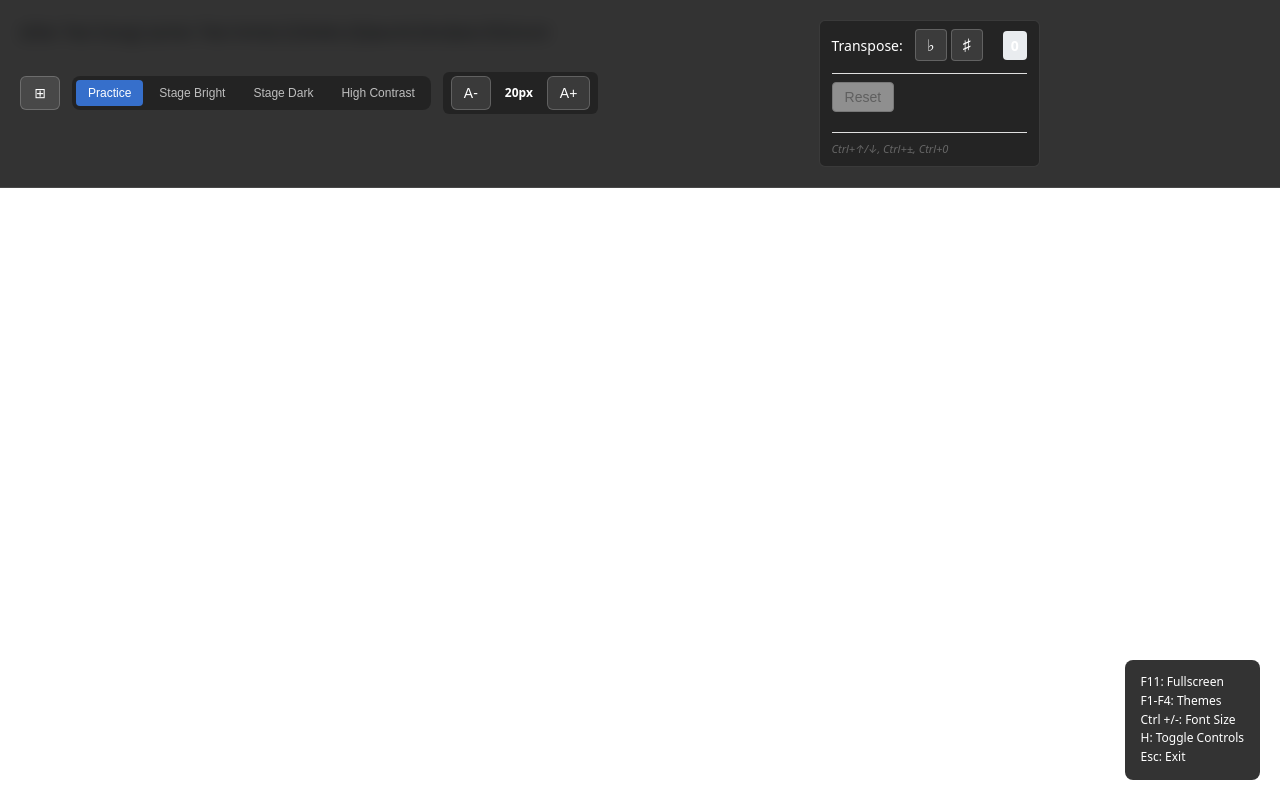
Test case: PerformanceMode › handles font size changes
This screenshot has width=1280, height=800.
Step 1. Click the button "A+" → click(569, 93), box [547, 76, 590, 110]
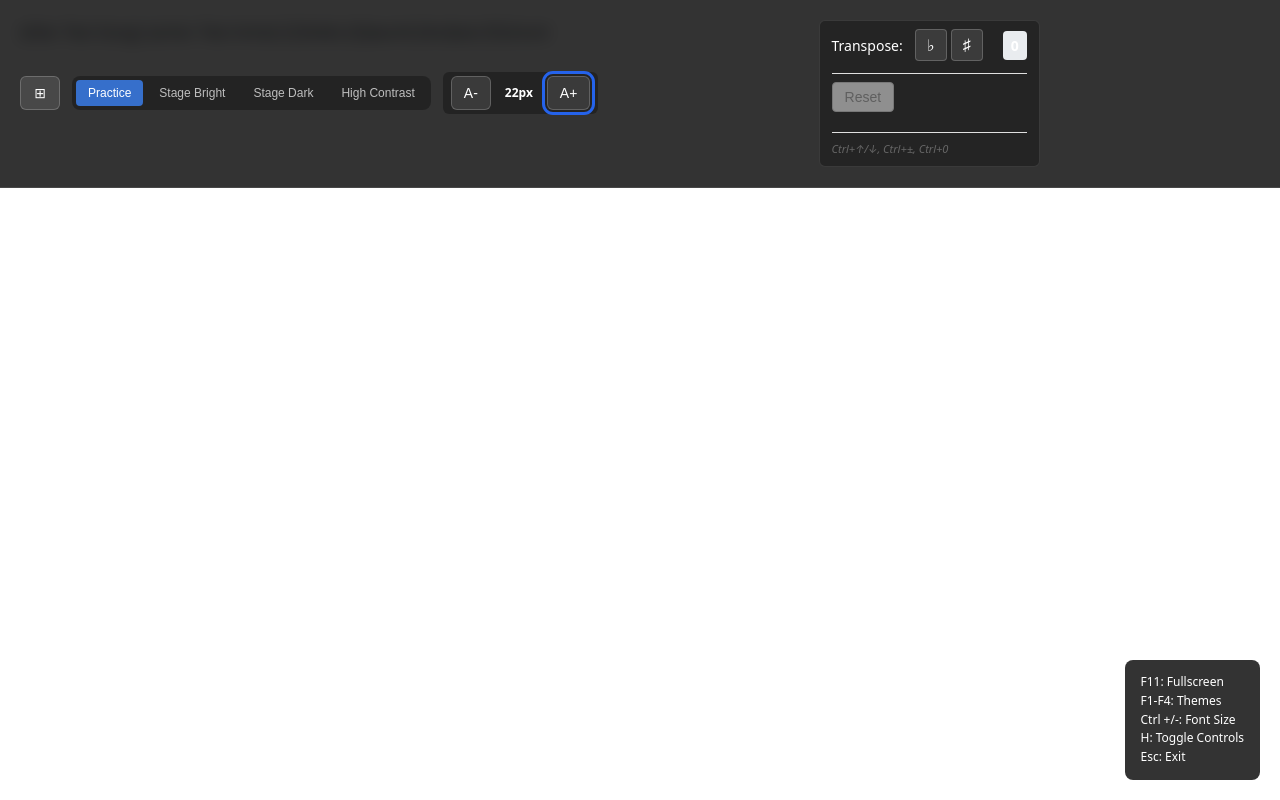
Expected: the text "22px" is shown, [505, 84, 533, 101]
